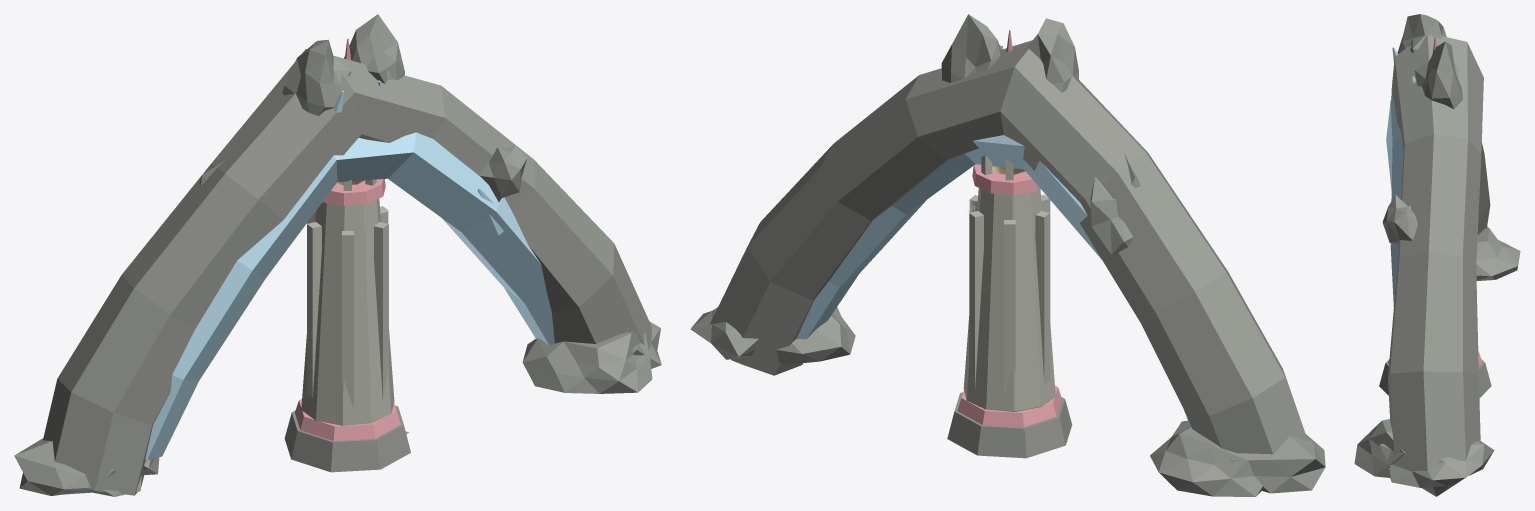
The model's file is AshenF13Kit.fbx.
3 views of the same model, side by side, from view 1: azimuth 30°, elevation 25°; view 2: azimuth 150°, elevation 25°; view 3: azimuth 270°, elevation 25° (orthographic). The views are drawn at different scales.
Parts seen in each view (by area): view 1: GlassArchSpan__STONE, GlassArchSpan__CRYSTAL, RavineHorizonSpire__TRIM, RavineHorizonSpire__STONE, RavineHorizonSpire__ALT; view 2: GlassArchSpan__STONE, RavineHorizonSpire__TRIM, GlassArchSpan__CRYSTAL, RavineHorizonSpire__STONE, RavineHorizonSpire__ALT; view 3: GlassArchSpan__STONE, GlassArchSpan__CRYSTAL, RavineHorizonSpire__STONE.
Boxes of the visible parts, x1,y1,x2,y2 form: GlassArchSpan__STONE: (14, 14, 661, 496); GlassArchSpan__CRYSTAL: (145, 80, 554, 460); RavineHorizonSpire__TRIM: (301, 179, 394, 425); RavineHorizonSpire__STONE: (284, 405, 410, 472); RavineHorizonSpire__ALT: (295, 38, 400, 440); GlassArchSpan__STONE: (690, 14, 1325, 496); RavineHorizonSpire__TRIM: (963, 51, 1055, 411); GlassArchSpan__CRYSTAL: (797, 135, 1189, 422); RavineHorizonSpire__STONE: (947, 392, 1072, 458); RavineHorizonSpire__ALT: (957, 30, 1061, 427); GlassArchSpan__STONE: (1354, 14, 1520, 496); GlassArchSpan__CRYSTAL: (1386, 47, 1415, 306); RavineHorizonSpire__STONE: (1379, 359, 1491, 398).
Bounding box in the file's own units: 98.27 × 62.13 × 25.95.
